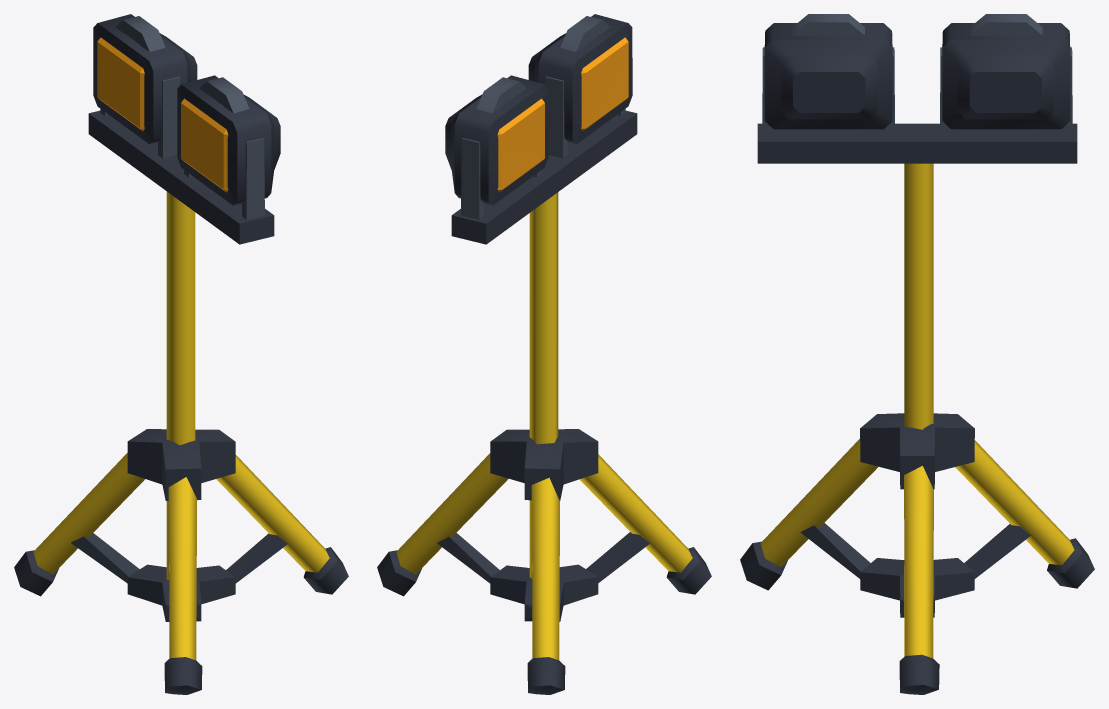
Rendered from LightsC_1_D.fbx.
The picture shows the model from 3 angles, left to right: view 1: azimuth 30°, elevation 25°; view 2: azimuth 150°, elevation 25°; view 3: azimuth 270°, elevation 25°; orthographic projection. The views are drawn at different scales.
Parts seen in each view (by area): view 1: LightsC_1_D; view 2: LightsC_1_D; view 3: LightsC_1_D.
Boxes of the visible parts, <box> form: LightsC_1_D: <box>14,14,348,694</box>; LightsC_1_D: <box>377,14,711,694</box>; LightsC_1_D: <box>740,14,1094,694</box>.
Size of the model in its own units: 75.14 by 160 by 85.05.
